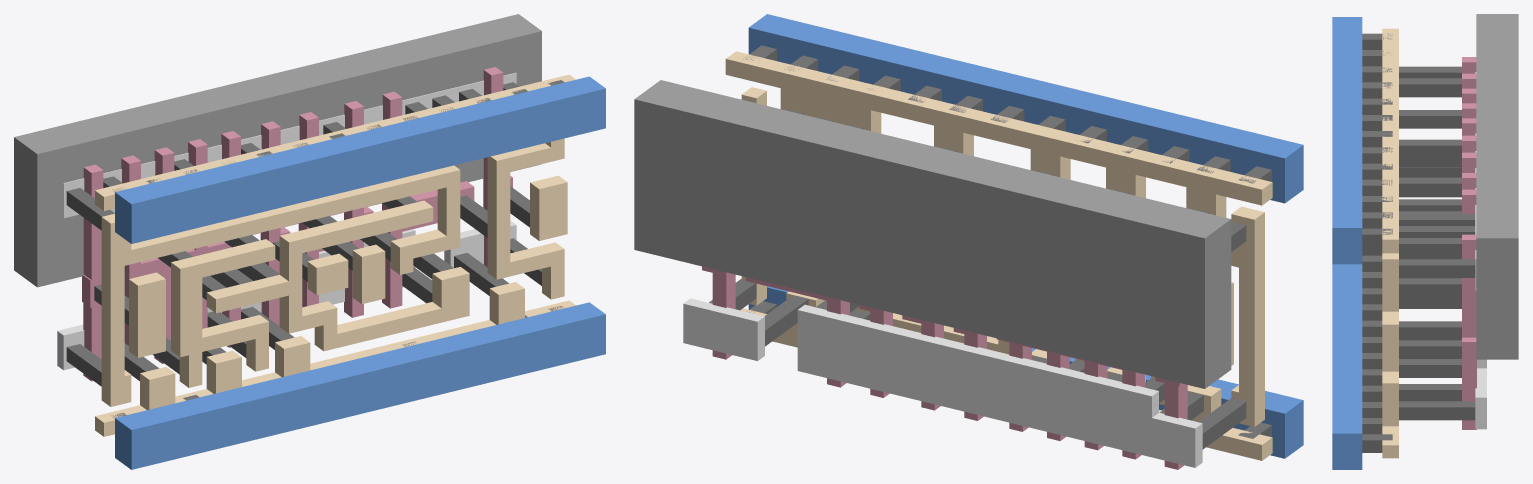
The model's file is sky130_fd_sc_hd__and4bb_4.gds.gltf.
3 renders of one model, left to right at view 1: azimuth 30°, elevation 25°; view 2: azimuth 150°, elevation 25°; view 3: azimuth 270°, elevation 25°, orthographic. The views are drawn at different scales.
Visible parts, largest first — view 1: sky130_fd_sc_hd__and4bb_4_li1, sky130_fd_sc_hd__and4bb_4_met1, sky130_fd_sc_hd__and4bb_4_nwell, sky130_fd_sc_hd__and4bb_4_poly, sky130_fd_sc_hd__and4bb_4_licon, sky130_fd_sc_hd__and4bb_4_diff, sky130_fd_sc_hd__and4bb_4_mcon; view 2: sky130_fd_sc_hd__and4bb_4_nwell, sky130_fd_sc_hd__and4bb_4_diff, sky130_fd_sc_hd__and4bb_4_li1, sky130_fd_sc_hd__and4bb_4_met1, sky130_fd_sc_hd__and4bb_4_poly, sky130_fd_sc_hd__and4bb_4_licon, sky130_fd_sc_hd__and4bb_4_mcon; view 3: sky130_fd_sc_hd__and4bb_4_licon, sky130_fd_sc_hd__and4bb_4_nwell, sky130_fd_sc_hd__and4bb_4_met1, sky130_fd_sc_hd__and4bb_4_mcon, sky130_fd_sc_hd__and4bb_4_li1, sky130_fd_sc_hd__and4bb_4_poly, sky130_fd_sc_hd__and4bb_4_diff.
Part boxes in pixels (box(x1,y1,x2,y2)): sky130_fd_sc_hd__and4bb_4_li1: box(95, 74, 575, 436); sky130_fd_sc_hd__and4bb_4_met1: box(115, 76, 605, 469); sky130_fd_sc_hd__and4bb_4_nwell: box(14, 14, 541, 287); sky130_fd_sc_hd__and4bb_4_poly: box(82, 67, 512, 381); sky130_fd_sc_hd__and4bb_4_licon: box(66, 82, 541, 386); sky130_fd_sc_hd__and4bb_4_diff: box(57, 73, 516, 370); sky130_fd_sc_hd__and4bb_4_mcon: box(110, 80, 564, 418); sky130_fd_sc_hd__and4bb_4_nwell: box(634, 80, 1231, 388); sky130_fd_sc_hd__and4bb_4_diff: box(683, 298, 1202, 467); sky130_fd_sc_hd__and4bb_4_li1: box(725, 51, 1272, 460); sky130_fd_sc_hd__and4bb_4_met1: box(748, 14, 1303, 458); sky130_fd_sc_hd__and4bb_4_poly: box(702, 266, 1187, 469); sky130_fd_sc_hd__and4bb_4_licon: box(709, 109, 1246, 449); sky130_fd_sc_hd__and4bb_4_mcon: box(743, 45, 1271, 438); sky130_fd_sc_hd__and4bb_4_licon: box(1399, 66, 1475, 420); sky130_fd_sc_hd__and4bb_4_nwell: box(1476, 14, 1518, 359); sky130_fd_sc_hd__and4bb_4_met1: box(1332, 17, 1362, 469); sky130_fd_sc_hd__and4bb_4_mcon: box(1362, 33, 1392, 452); sky130_fd_sc_hd__and4bb_4_li1: box(1382, 28, 1398, 458); sky130_fd_sc_hd__and4bb_4_poly: box(1462, 57, 1476, 429); sky130_fd_sc_hd__and4bb_4_diff: box(1475, 72, 1486, 429).
Bounding box in the file's own units: 6.36 × 3.2 × 2.24.
